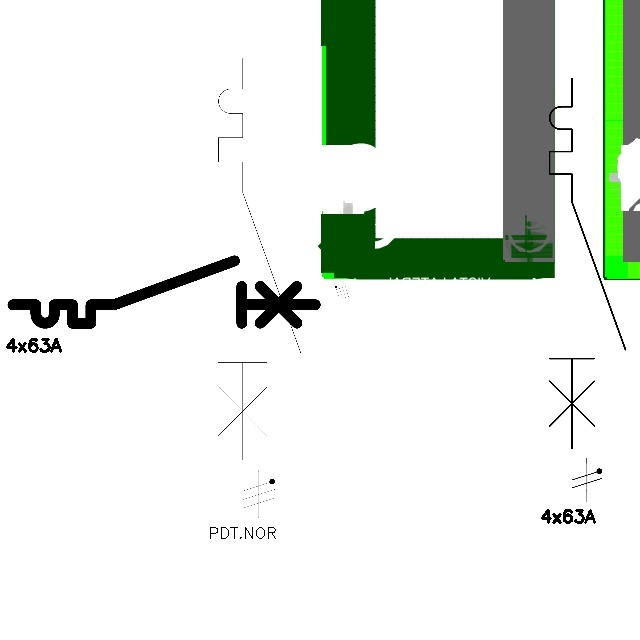interruptor_termomagnetico: (208, 48, 311, 470), (540, 69, 635, 458), (5, 253, 323, 331)
